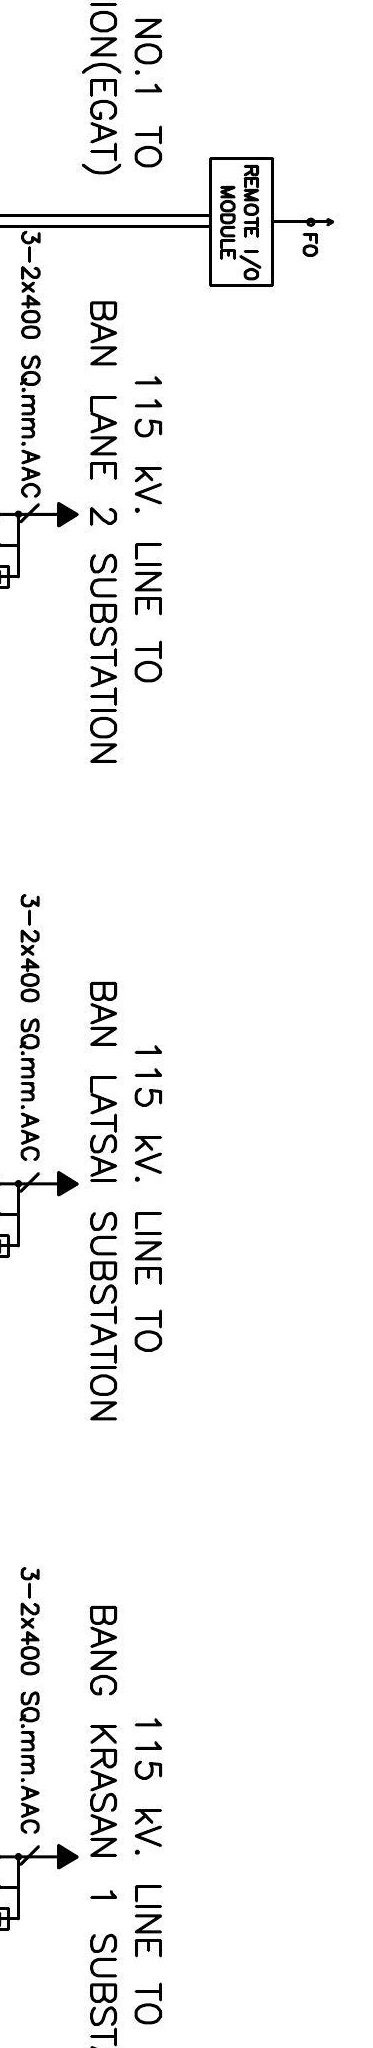remote_io_module: (209, 157, 274, 287)
